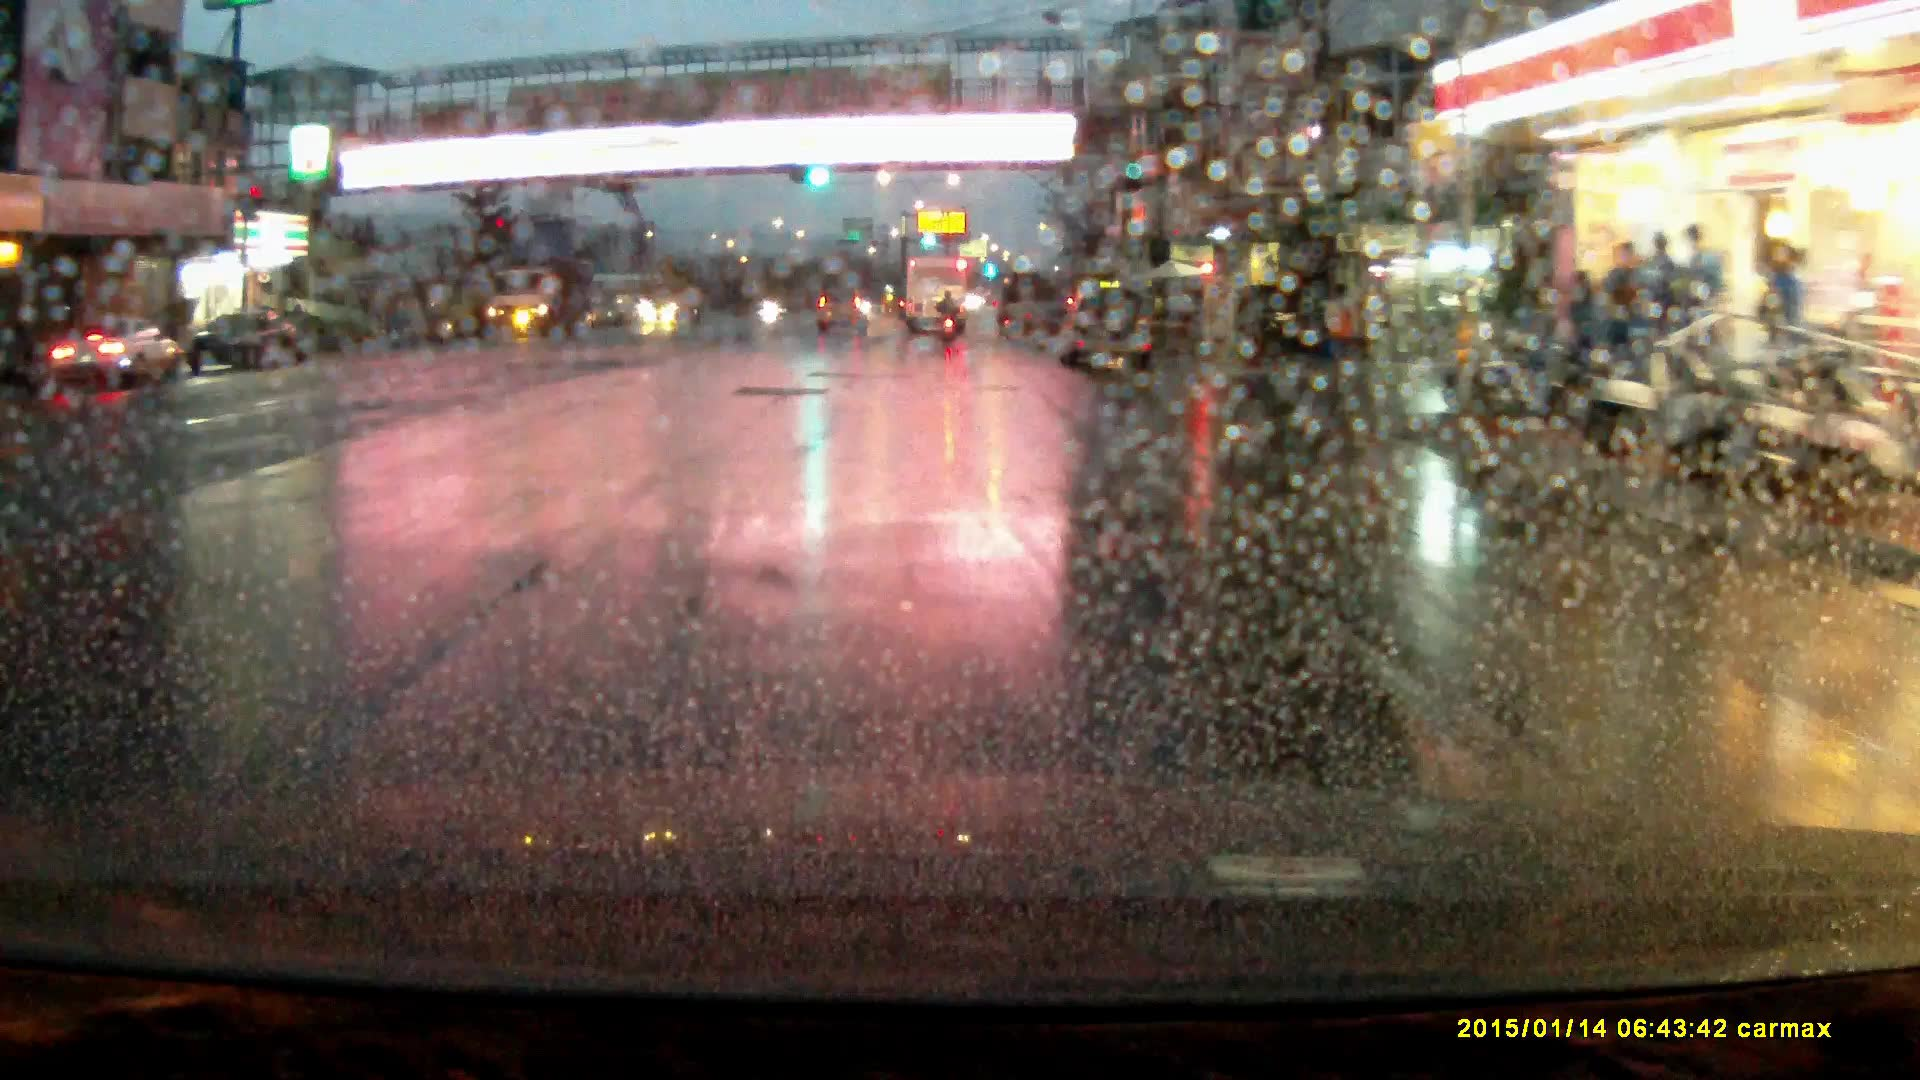rider: (939, 289, 962, 346)
vehicle: (56, 316, 177, 392), (1057, 288, 1151, 377), (486, 261, 592, 339), (182, 310, 307, 375), (1238, 282, 1324, 356), (905, 258, 971, 336), (639, 283, 708, 328), (816, 292, 870, 338)
